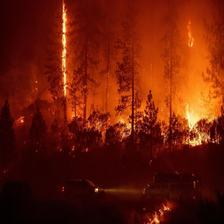fire: (131, 70, 211, 157), (54, 5, 93, 130)
